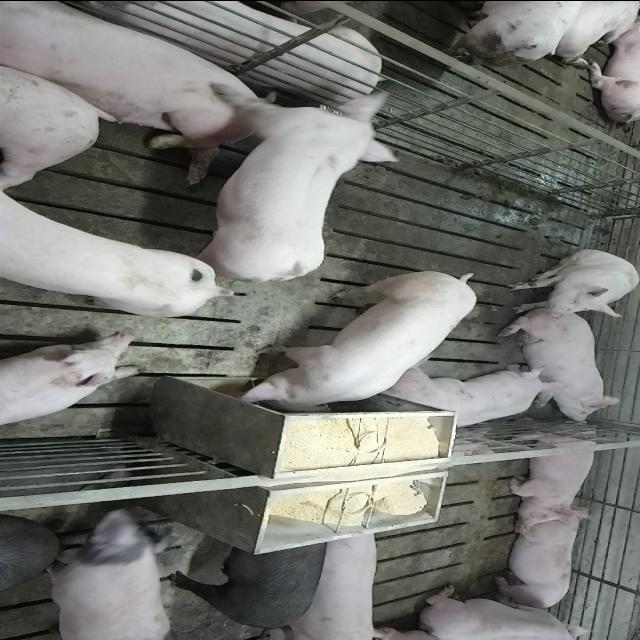Feeding: (228, 272, 478, 420)
Lateral_lying: (0, 3, 279, 176)
Sitting: (504, 248, 638, 318)
Standing: (156, 85, 400, 286), (0, 178, 229, 322), (30, 505, 176, 637), (172, 536, 334, 626), (286, 524, 374, 638), (2, 516, 64, 604)
Sternal_lying: (500, 316, 626, 424), (0, 334, 139, 431), (404, 582, 600, 638), (384, 368, 558, 430), (491, 509, 589, 610), (506, 426, 604, 522)
